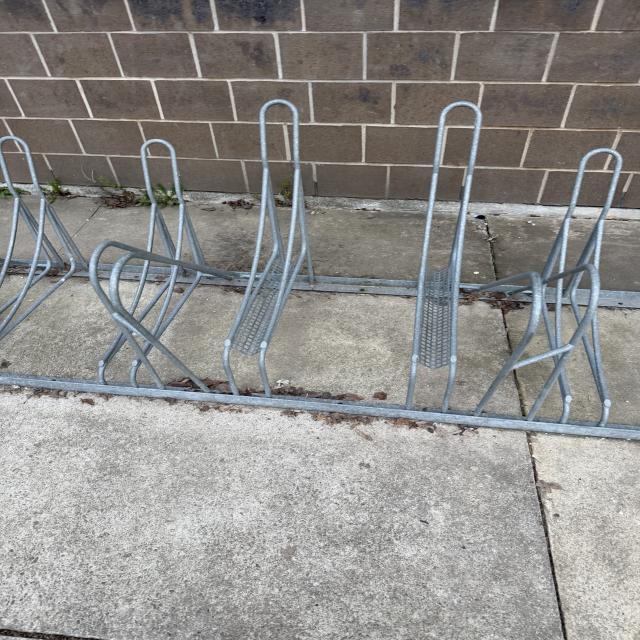Bicycle Rack: (0, 95, 637, 443)
